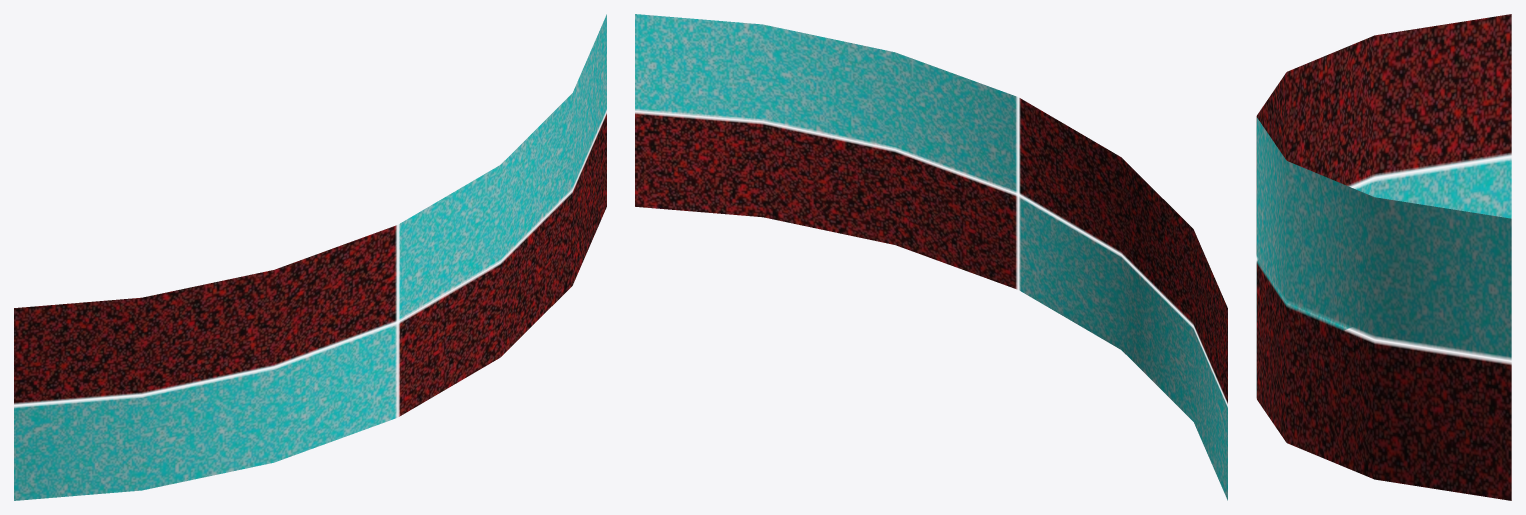
3 renders of one model, left to right at view 1: azimuth 30°, elevation 25°; view 2: azimuth 150°, elevation 25°; view 3: azimuth 270°, elevation 25°, orthographic. The views are drawn at different scales.
Visible parts, largest first — view 1: SM_VFX_Swirl_01_LOD0; view 2: SM_VFX_Swirl_01_LOD0; view 3: SM_VFX_Swirl_01_LOD0.
Part boxes in pixels (bbox=[...]): SM_VFX_Swirl_01_LOD0: bbox=[14, 14, 606, 500]; SM_VFX_Swirl_01_LOD0: bbox=[635, 14, 1227, 500]; SM_VFX_Swirl_01_LOD0: bbox=[1256, 14, 1511, 500].
Bounding box in the file's own units: 0.4468 × 0.2466 × 0.1138.
